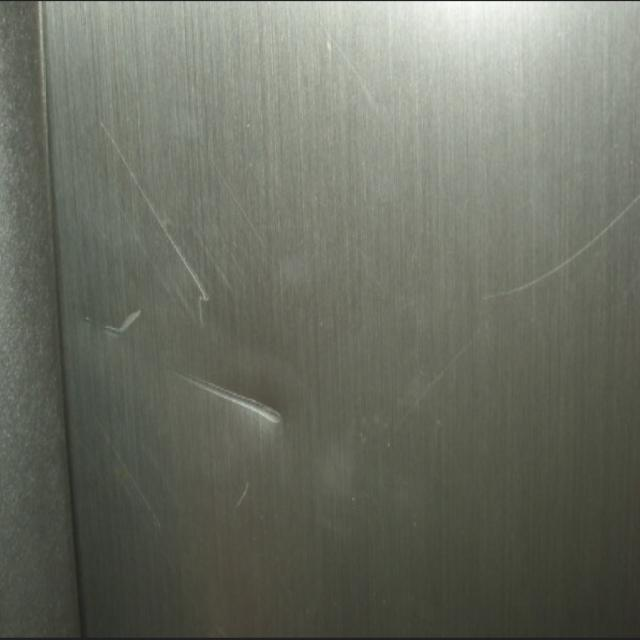dents: (174, 349, 286, 434), (76, 294, 106, 353)
